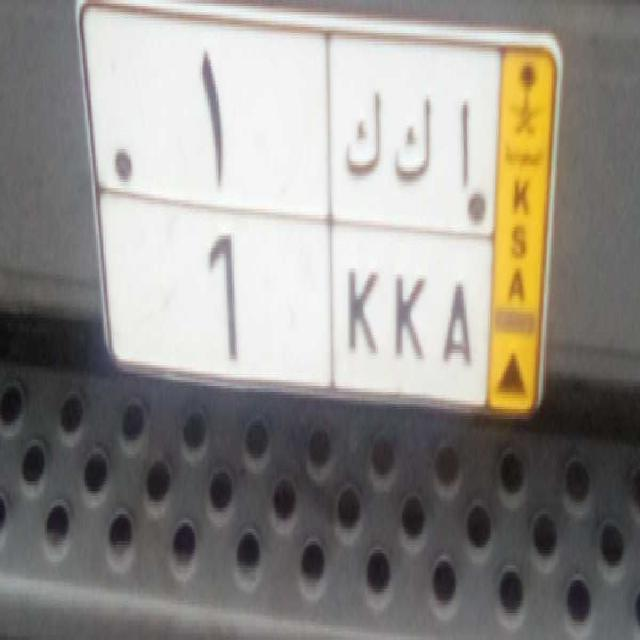license_plate: (103, 206, 489, 405)
